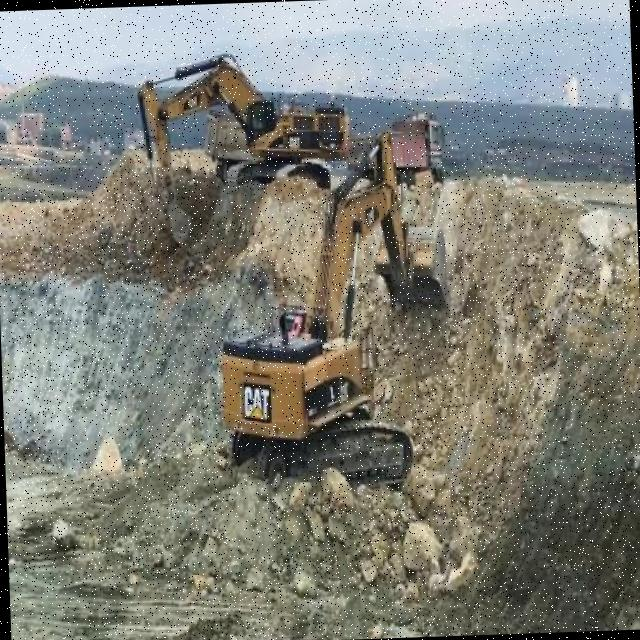Dump Truck: (365, 96, 446, 177)
Excavator: (212, 130, 454, 502), (132, 42, 354, 242)
